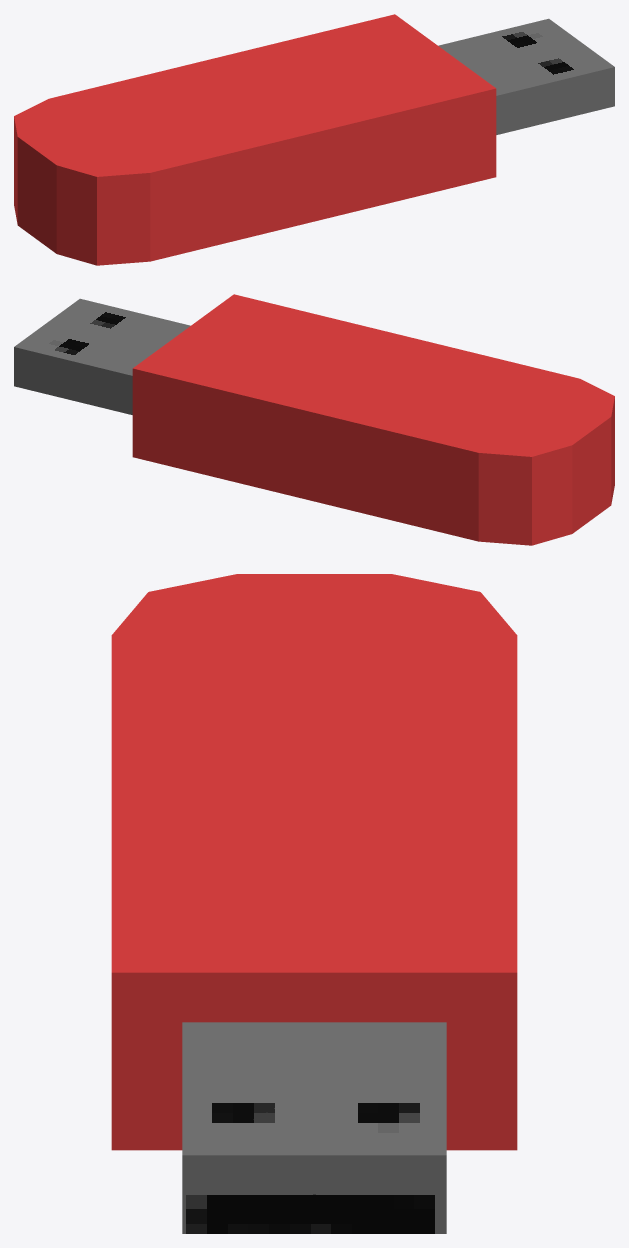
File: FlashDriveLowPoly.glb
The picture shows the model from 3 angles, top to bottom: view 1: azimuth 30°, elevation 25°; view 2: azimuth 150°, elevation 25°; view 3: azimuth 270°, elevation 25°; orthographic projection. The views are drawn at different scales.
Parts seen in each view (by area): view 1: Flashdrive2-col; view 2: Flashdrive2-col; view 3: Flashdrive2-col.
Part boxes in pixels (x1,y1,x2,y2): Flashdrive2-col: (14,14,614,265); Flashdrive2-col: (14,294,614,545); Flashdrive2-col: (111,574,517,1233).
Size of the model in its own units: 0.1057 by 0.0165 by 0.0341.
Materials: 2 (1 with a texture image).
